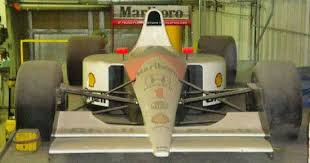FormulaOneCar: (14, 4, 304, 157)
